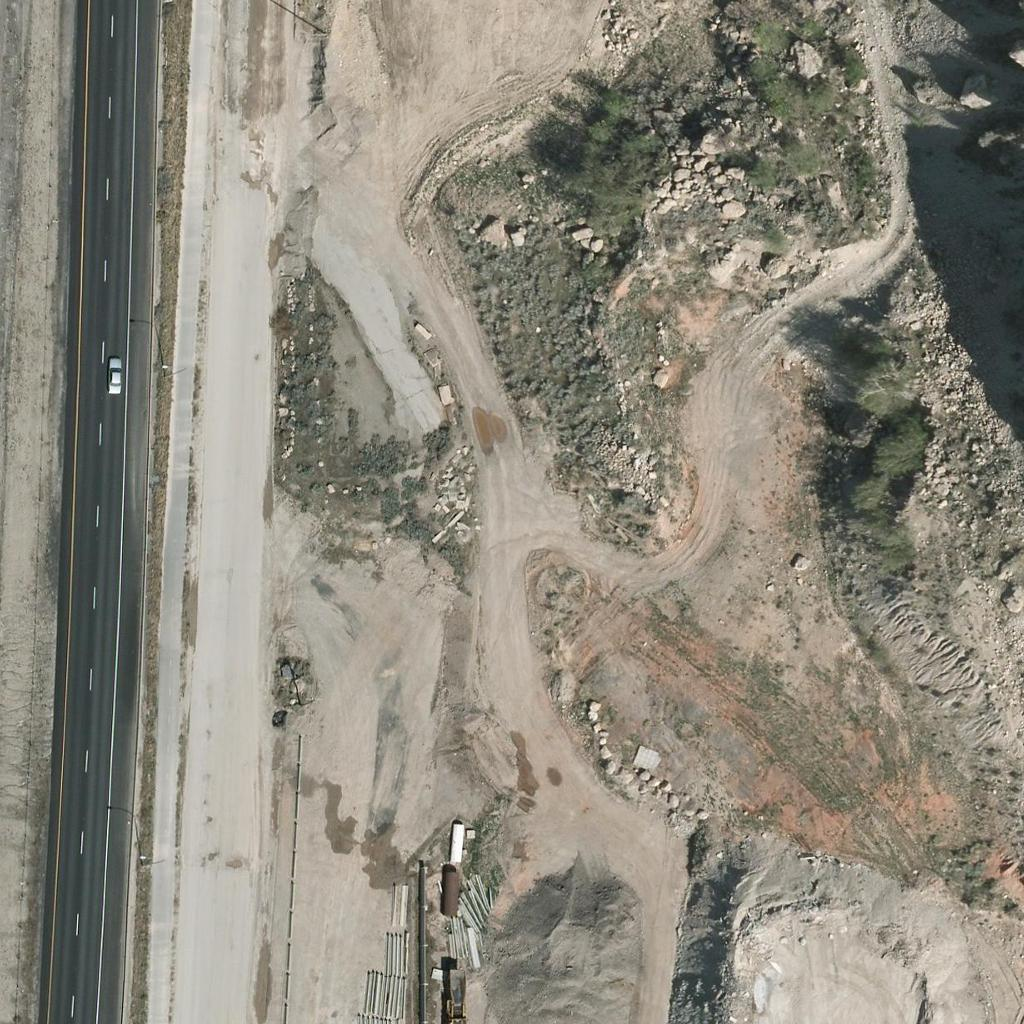car: (97, 357, 131, 391)
